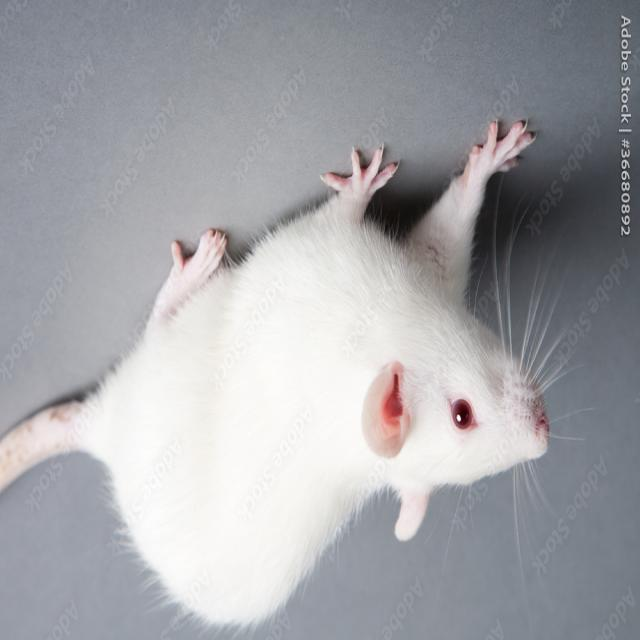rodent: (78, 158, 554, 634)
